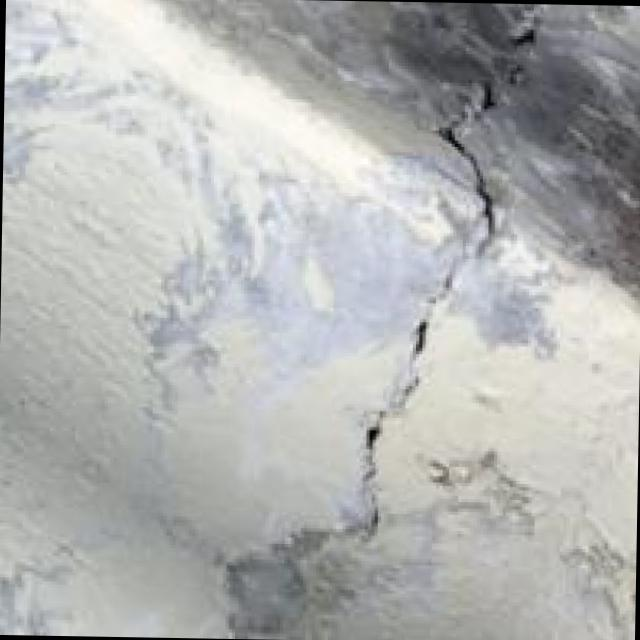crack: (192, 1, 562, 640)
